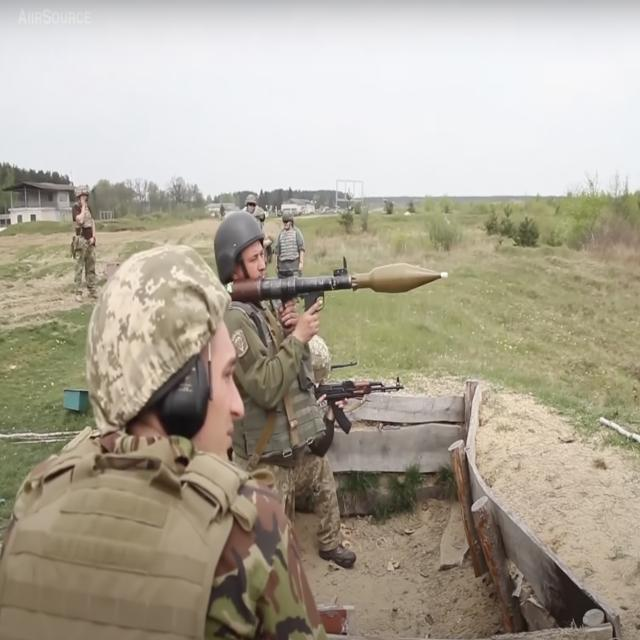bazooka: (216, 259, 458, 303)
